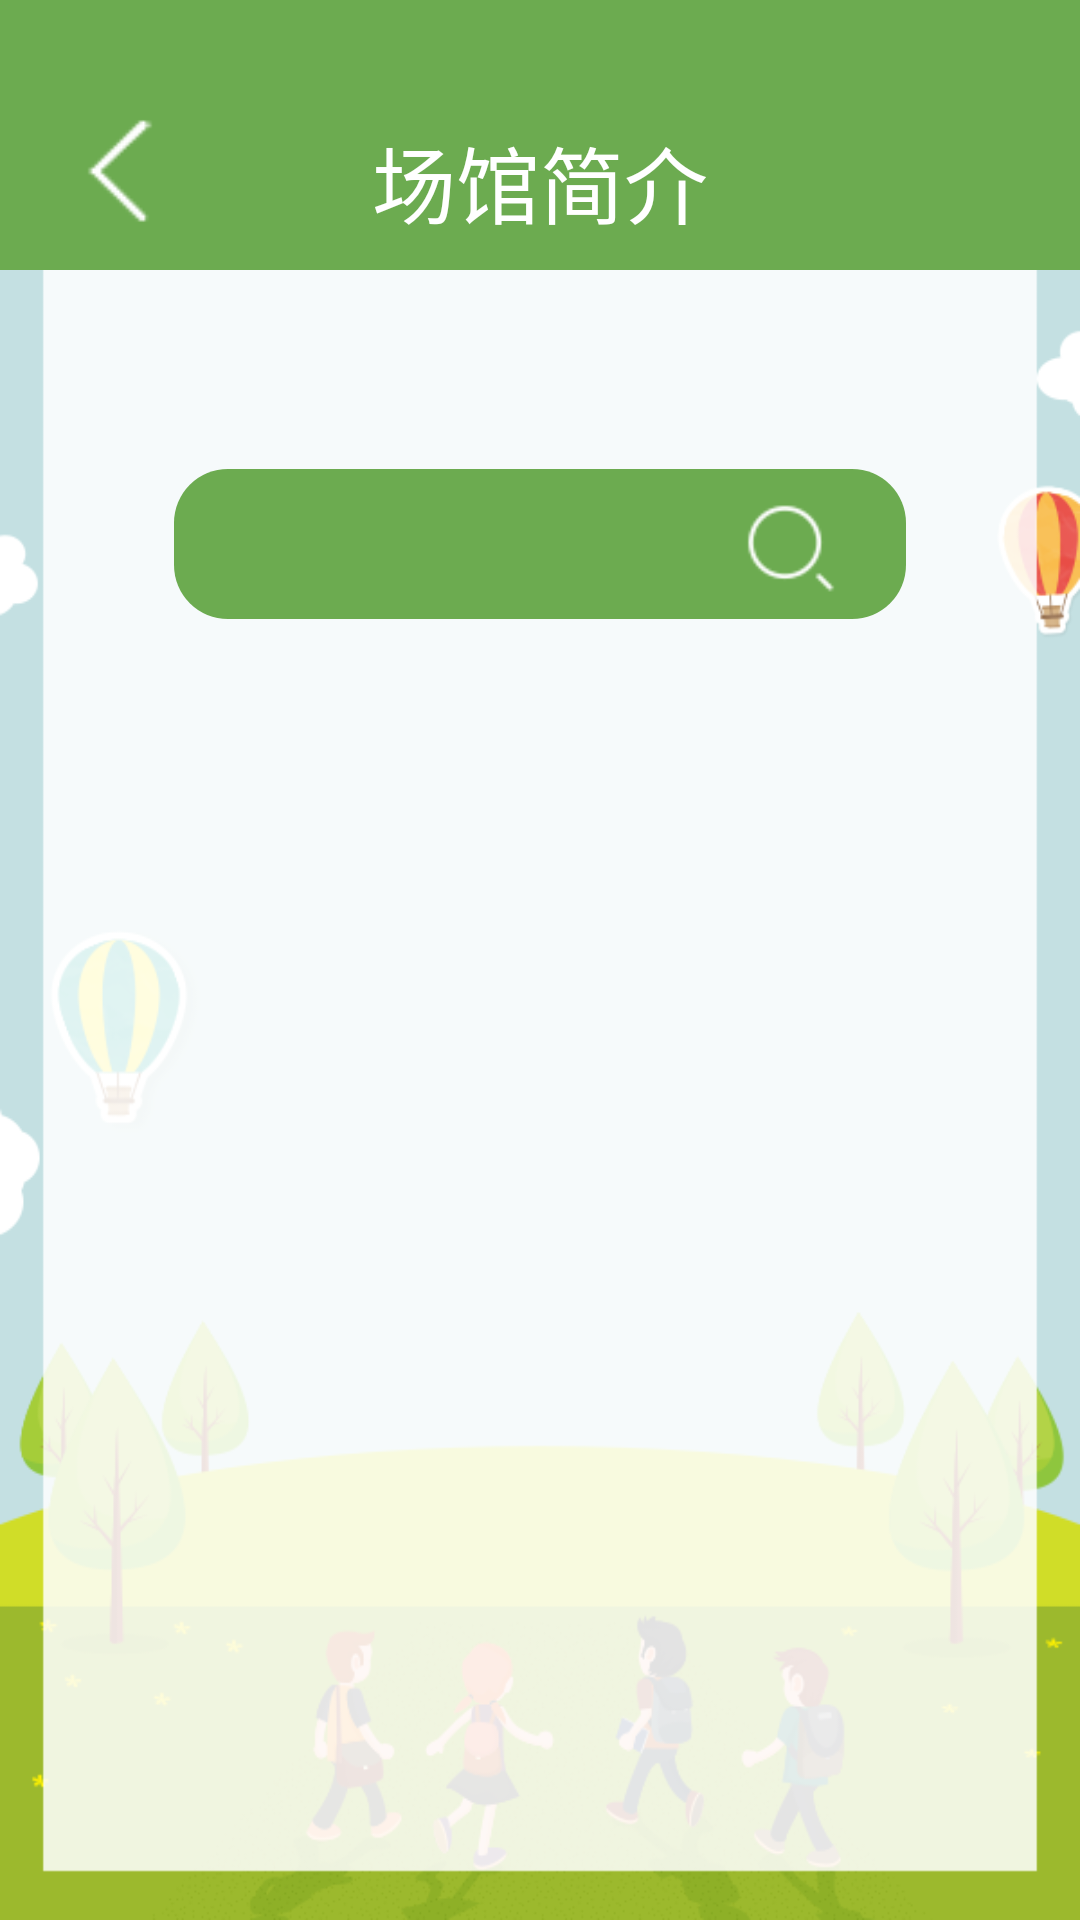

Named icons in this screenshot (1080w x 1920h) and their bounding boxes, (x1, y1, x2, y2):
dao back: (88, 120, 152, 222)
search: (711, 505, 876, 641)
